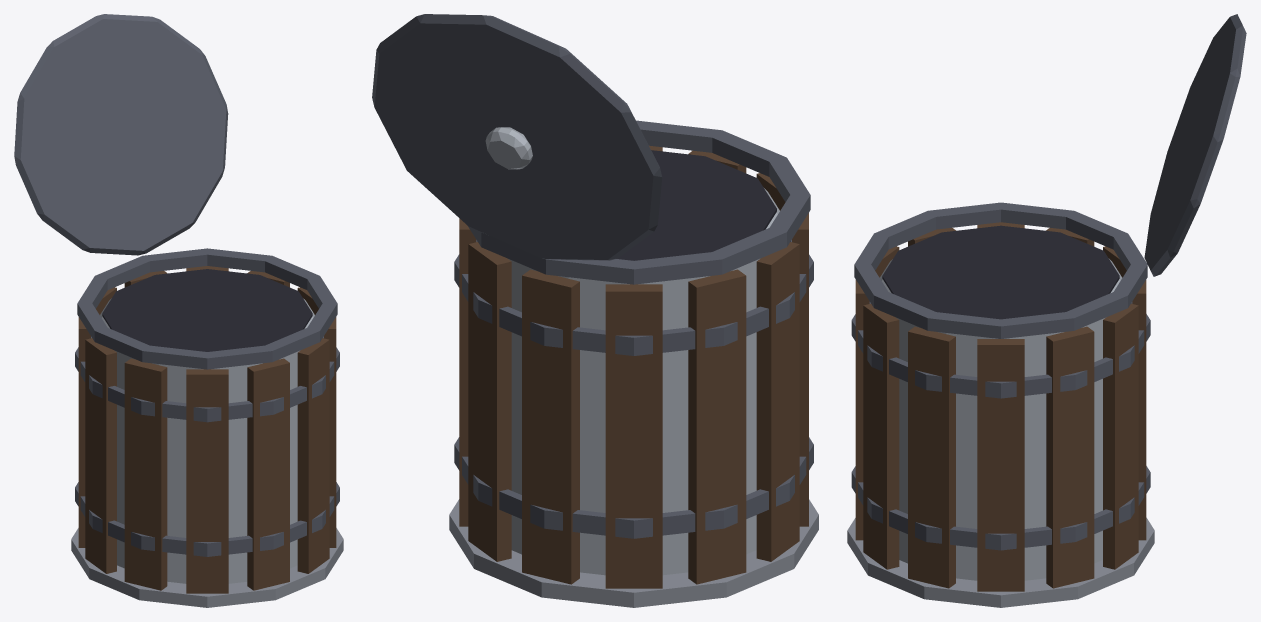
The model's file is CatCafe_Park_TrashCan.fbx.
The picture shows the model from 3 angles, left to right: view 1: azimuth 30°, elevation 25°; view 2: azimuth 150°, elevation 25°; view 3: azimuth 270°, elevation 25°; orthographic projection. The views are drawn at different scales.
Visible parts, largest first — view 1: CatCafe_Park_TrashCan_Can, CatCafe_Park_TrashCan_Lid; view 2: CatCafe_Park_TrashCan_Can, CatCafe_Park_TrashCan_Lid; view 3: CatCafe_Park_TrashCan_Can, CatCafe_Park_TrashCan_Lid.
Boxes of the visible parts, x1=… form: CatCafe_Park_TrashCan_Can: x1=71, y1=248, x2=343, y2=607; CatCafe_Park_TrashCan_Lid: x1=14, y1=14, x2=228, y2=255; CatCafe_Park_TrashCan_Can: x1=449, y1=120, x2=818, y2=607; CatCafe_Park_TrashCan_Lid: x1=372, y1=14, x2=662, y2=260; CatCafe_Park_TrashCan_Can: x1=847, y1=202, x2=1154, y2=607; CatCafe_Park_TrashCan_Lid: x1=1144, y1=14, x2=1246, y2=276.
Bounding box in the file's own units: 2.2 × 4.07 × 2.86.
1 material, 1 textured.
